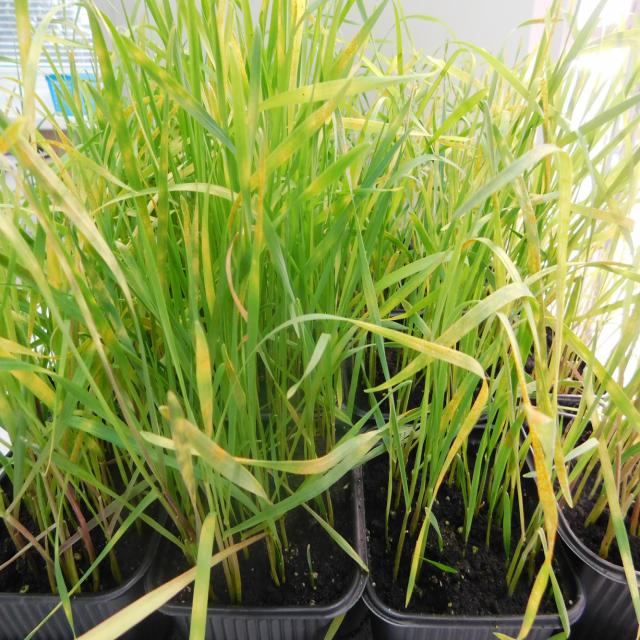wheat-yellowrust: (73, 566, 197, 640), (195, 326, 212, 438)
